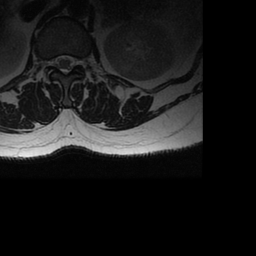CCS_normal: (61, 49, 68, 79)
LFS_stenosis: (75, 51, 82, 71)
LLS_normal: (68, 49, 75, 75)
RFS_stenosis: (45, 52, 53, 71)
RLS_normal: (54, 50, 61, 74)
